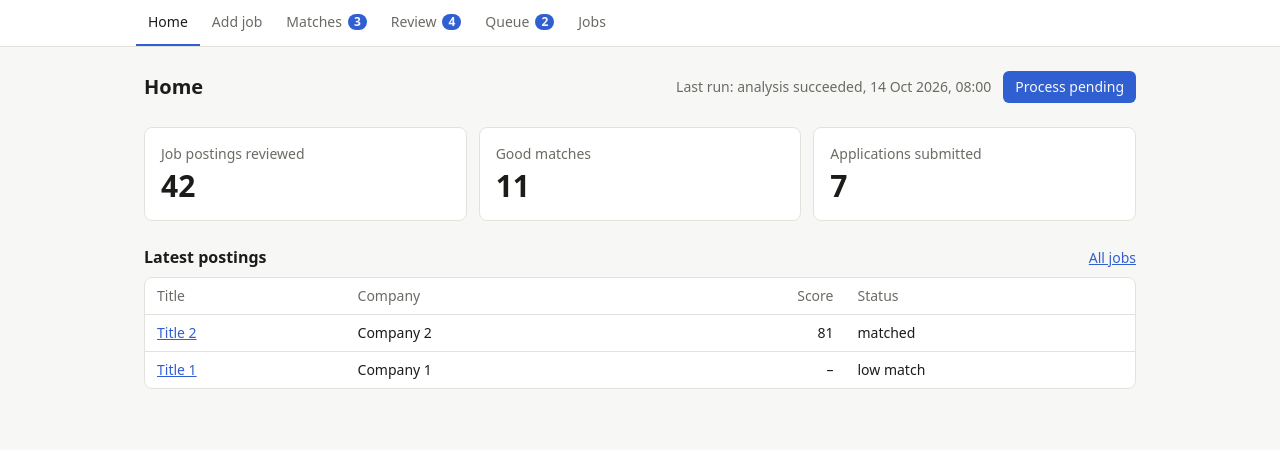
it: Home dashboard › processes pending postings from the button
Click the button "Process pending". click: (1070, 87)
box: [1003,71,1136,103]
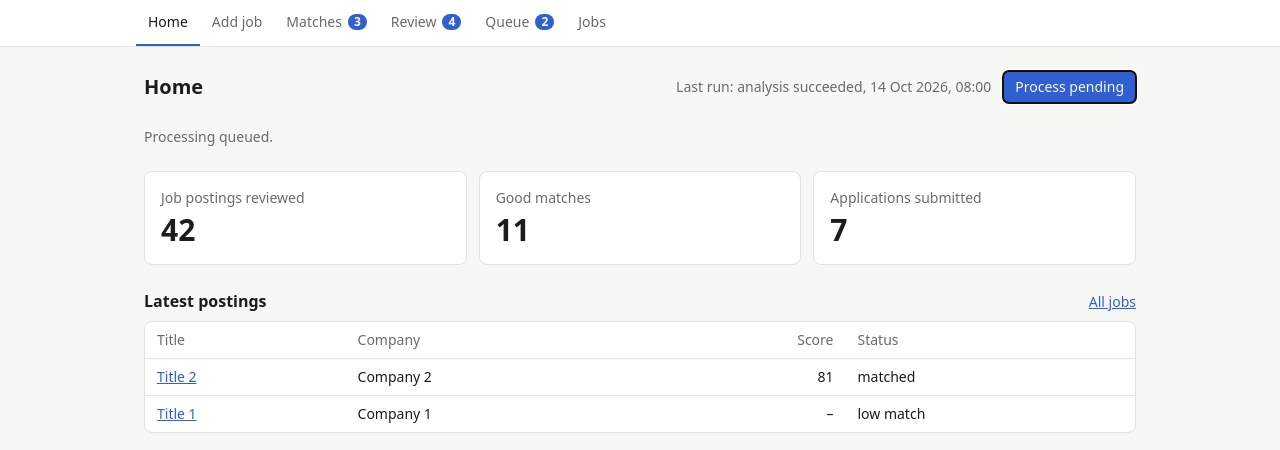
Check: the text "Processing queued." is shown, box [144,127,273,146]
